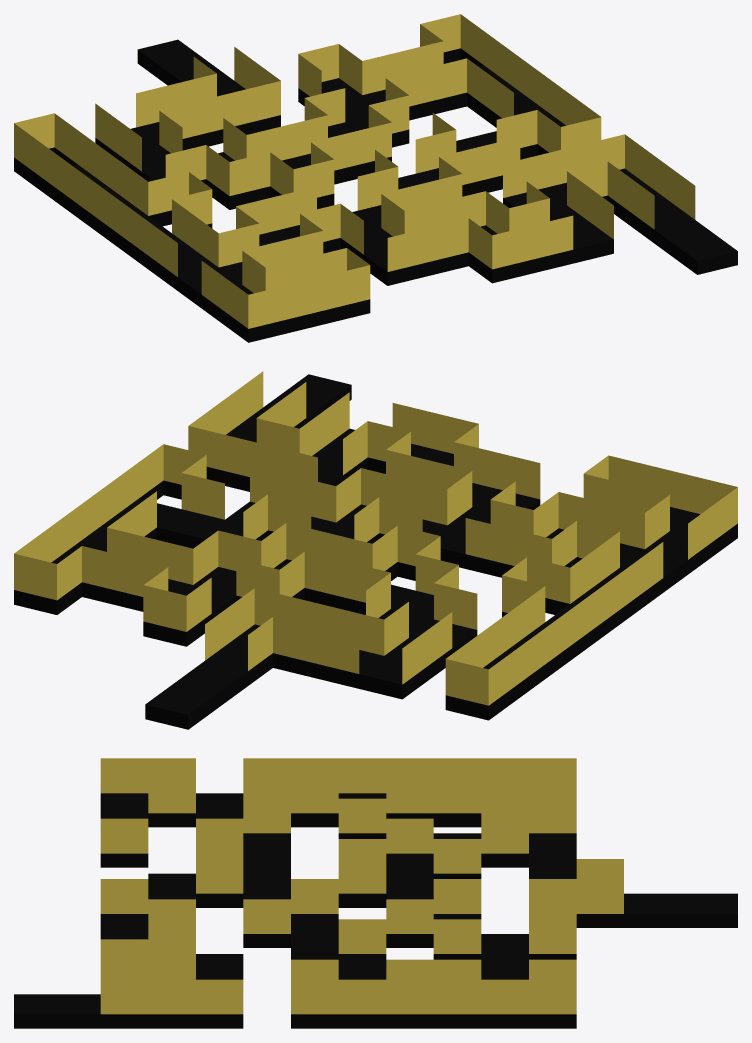
The model's file is Лабиринт 3 .fbx.
3 renders of one model, top to bottom at view 1: azimuth 30°, elevation 25°; view 2: azimuth 150°, elevation 25°; view 3: azimuth 270°, elevation 25°, orthographic. The views are drawn at different scales.
Visible parts, largest first — view 1: Plane.001, Plane; view 2: Plane.001, Plane; view 3: Plane.001, Plane.
Part boxes in pixels (x1=…): Plane.001: x1=14, y1=14, x2=695, y2=328; Plane: x1=14, y1=39, x2=737, y2=342; Plane.001: x1=14, y1=371, x2=737, y2=705; Plane: x1=14, y1=374, x2=737, y2=729; Plane.001: x1=100, y1=758, x2=623, y2=1014; Plane: x1=14, y1=793, x2=737, y2=1028.
Bounding box in the file's own units: 1398 × 144 × 1934.
